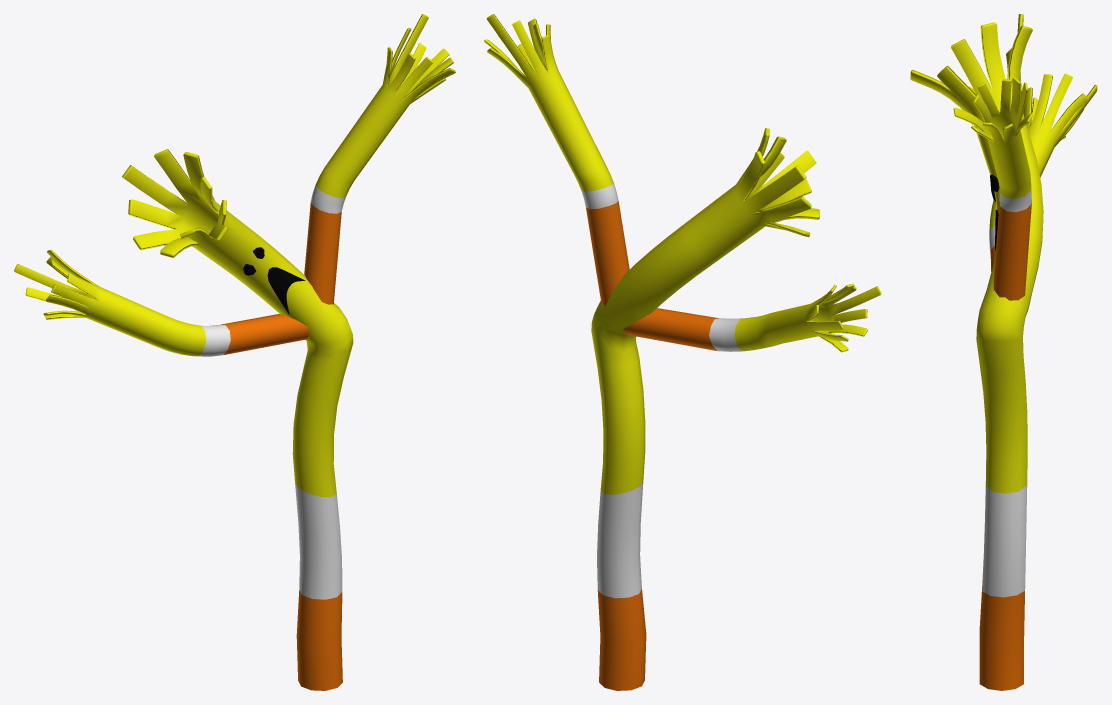
The model's file is SM_TallTrippyTreeB4.fbx.
3 renders of one model, left to right at view 1: azimuth 30°, elevation 25°; view 2: azimuth 150°, elevation 25°; view 3: azimuth 270°, elevation 25°, orthographic. The views are drawn at different scales.
Visible parts, largest first — view 1: TubeMan; view 2: TubeMan; view 3: TubeMan.
Boxes of the visible parts, x1,y1,x2,y2 form: TubeMan: (14,14,455,690); TubeMan: (484,14,881,690); TubeMan: (910,14,1097,690).
Bounding box in the file's own units: 1786 × 2746 × 709.
